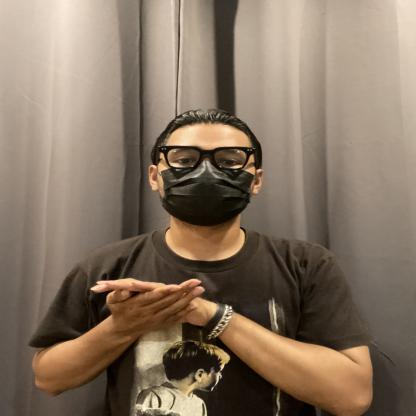Love: (60, 261, 285, 355)
